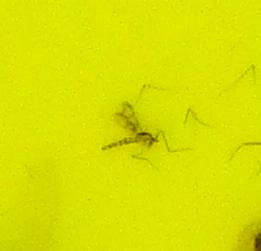Nematocera: (100, 100, 161, 151)
